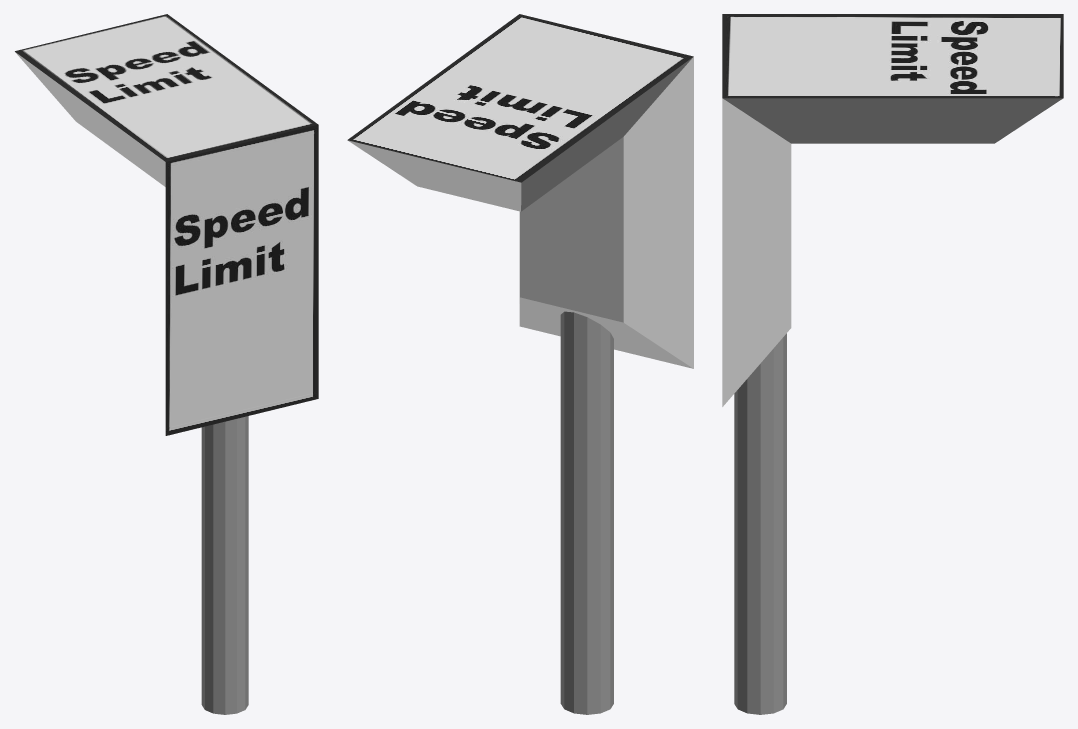
File: speedLimit_sign.fbx
The picture shows the model from 3 angles, left to right: view 1: azimuth 30°, elevation 25°; view 2: azimuth 150°, elevation 25°; view 3: azimuth 270°, elevation 25°; orthographic projection. The views are drawn at different scales.
Visible parts, largest first — view 1: speedLimit_sign_01; view 2: speedLimit_sign_01; view 3: speedLimit_sign_01.
Boxes of the visible parts, bbox=[...] form: speedLimit_sign_01: bbox=[15, 14, 318, 714]; speedLimit_sign_01: bbox=[347, 14, 693, 714]; speedLimit_sign_01: bbox=[722, 14, 1063, 714].
Size of the model in its own units: 5.32 by 19.07 by 9.1.
